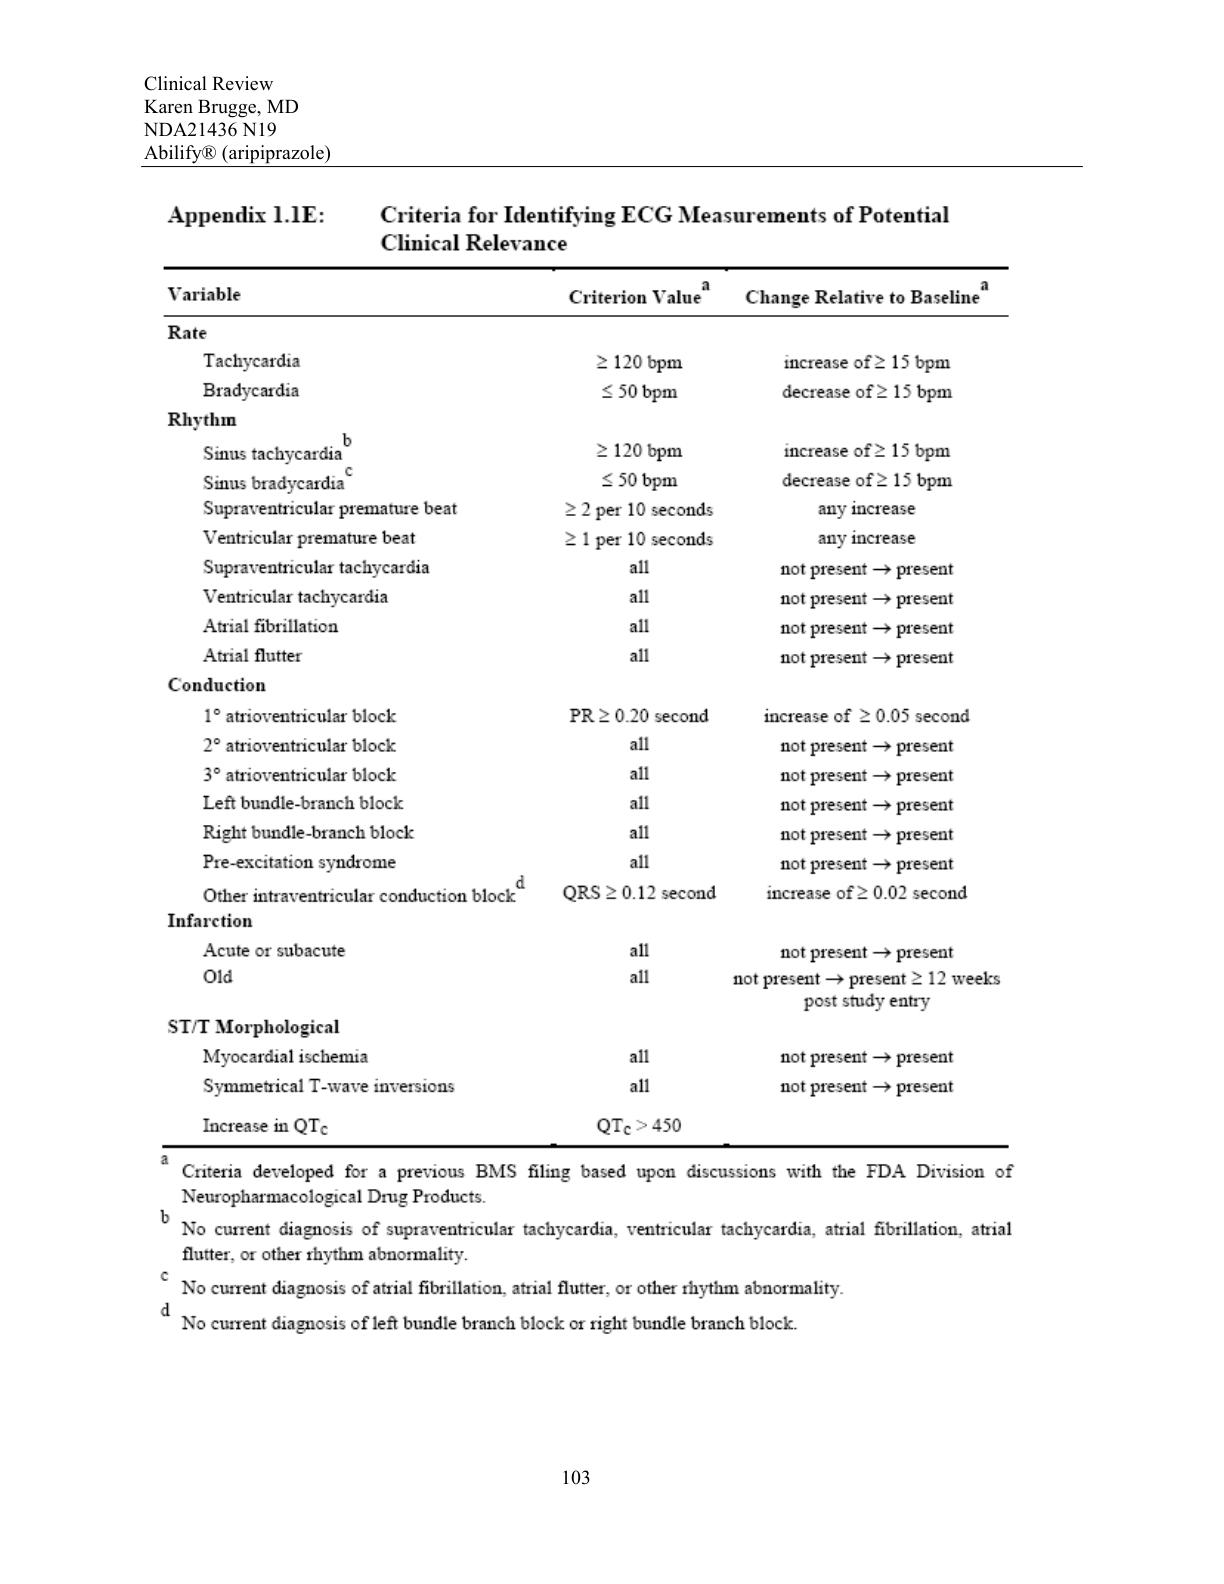partial_lined_merged_cells: (161, 265, 1011, 1149)
